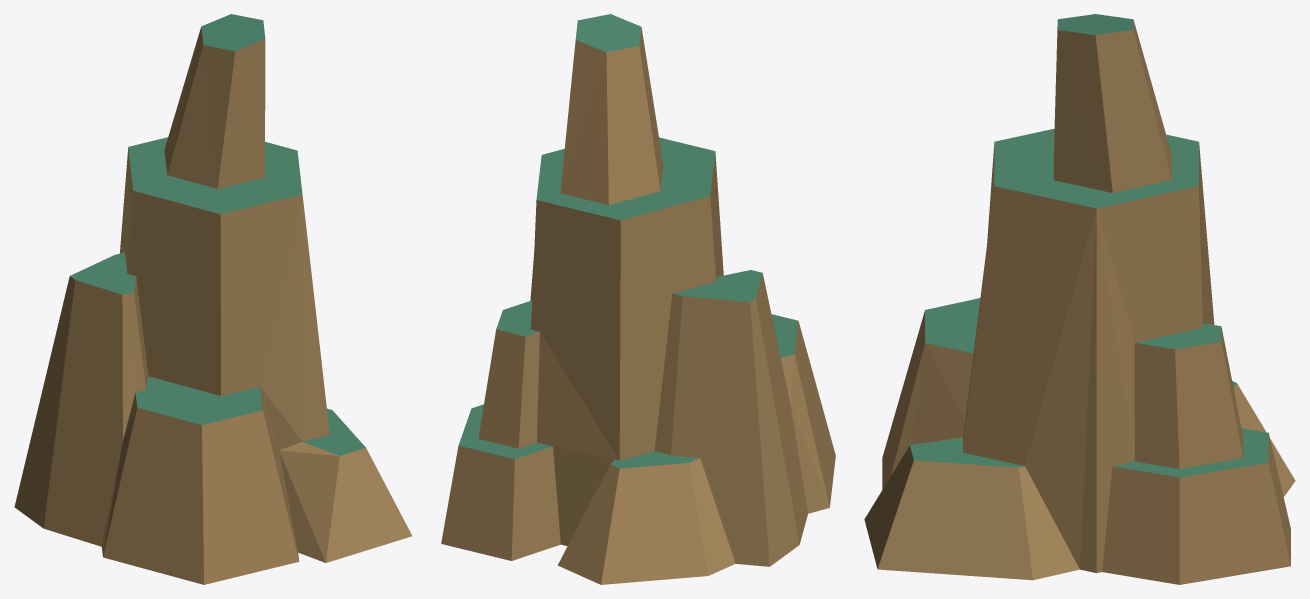
File: Rock_Large_Mesa_Eroded_Moss_Grass_Cluster_01.FBX
3 views of the same model, side by side, from view 1: azimuth 30°, elevation 25°; view 2: azimuth 150°, elevation 25°; view 3: azimuth 270°, elevation 25° (orthographic). The views are drawn at different scales.
Visible parts, largest first — view 1: Rock_Large_Mesa_Eroded_Moss_Grass_Cluster_01; view 2: Rock_Large_Mesa_Eroded_Moss_Grass_Cluster_01; view 3: Rock_Large_Mesa_Eroded_Moss_Grass_Cluster_01.
Boxes of the visible parts, x1,y1,x2,y2 form: Rock_Large_Mesa_Eroded_Moss_Grass_Cluster_01: (14, 14, 411, 584); Rock_Large_Mesa_Eroded_Moss_Grass_Cluster_01: (441, 14, 835, 584); Rock_Large_Mesa_Eroded_Moss_Grass_Cluster_01: (864, 14, 1295, 584).
Size of the model in its own units: 4881 by 7158 by 5521.
